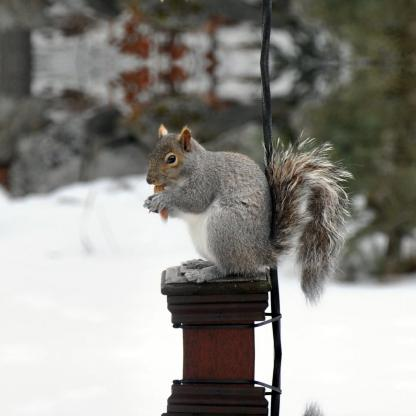Squirrel: (131, 121, 351, 306)
